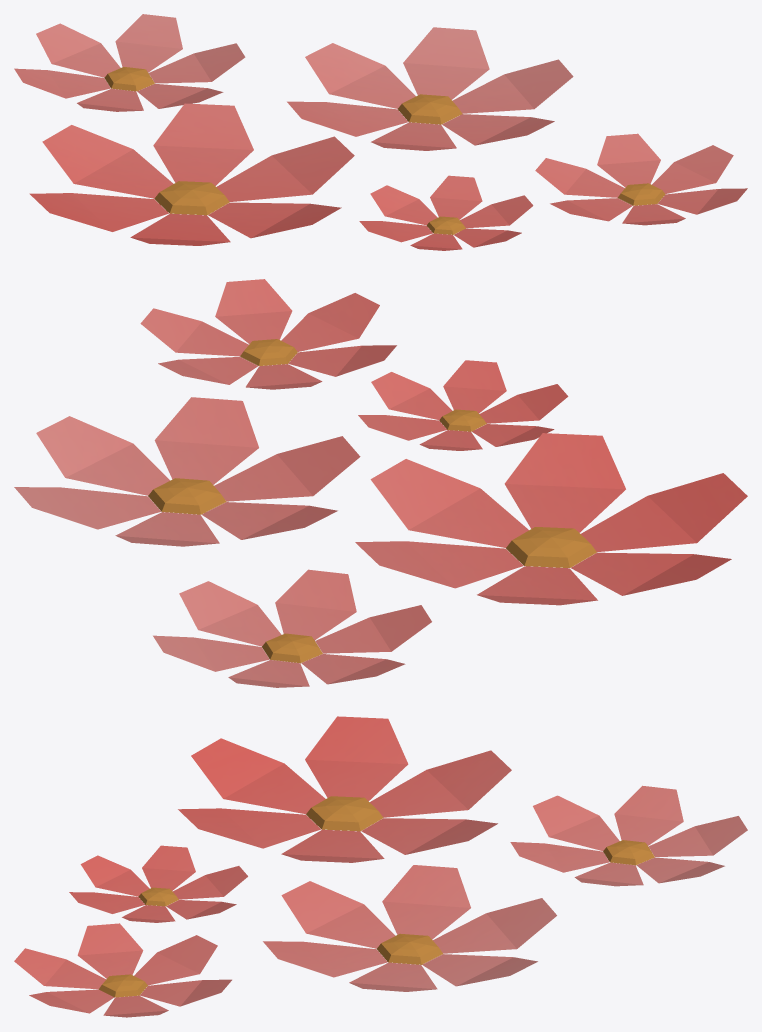
Rendered from ground_flowers_1.fbx.
The picture shows the model from 3 angles, top to bottom: view 1: azimuth 30°, elevation 25°; view 2: azimuth 150°, elevation 25°; view 3: azimuth 270°, elevation 25°; orthographic projection. The views are drawn at different scales.
Parts seen in each view (by area): view 1: Sphere.004; view 2: Sphere.004; view 3: Sphere.004.
Part boxes in pixels (bbox=[...]): Sphere.004: bbox=[14, 14, 747, 250]; Sphere.004: bbox=[14, 279, 747, 687]; Sphere.004: bbox=[14, 716, 747, 1017].
Bounding box in the file's own units: 0.8388 × 0.8922 × 0.0356.
